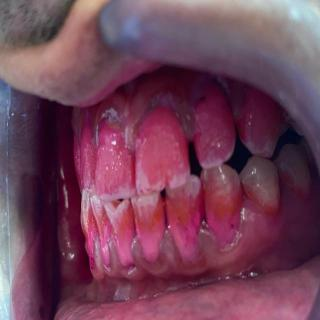plaque: (134, 112, 190, 188), (188, 90, 235, 164), (162, 183, 208, 255), (202, 177, 244, 251), (96, 126, 132, 200), (240, 88, 282, 150), (133, 199, 169, 264), (107, 207, 138, 263), (92, 204, 115, 276), (77, 195, 96, 267), (78, 126, 95, 191), (70, 135, 84, 189)
